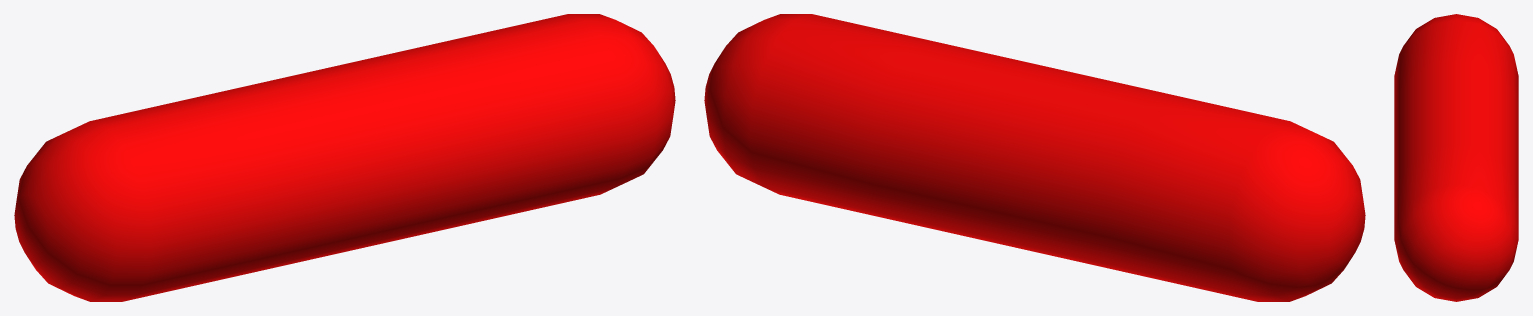
The model's file is Mouth0.glb.
3 renders of one model, left to right at view 1: azimuth 30°, elevation 25°; view 2: azimuth 150°, elevation 25°; view 3: azimuth 270°, elevation 25°, orthographic. The views are drawn at different scales.
Visible parts, largest first — view 1: Mouth0; view 2: Mouth0; view 3: Mouth0.
Part boxes in pixels (x1,y1,x2,y2): Mouth0: [14, 14, 675, 301]; Mouth0: [704, 14, 1365, 301]; Mouth0: [1394, 14, 1518, 301].
Bounding box in the file's own units: 39.99 × 10.56 × 10.
